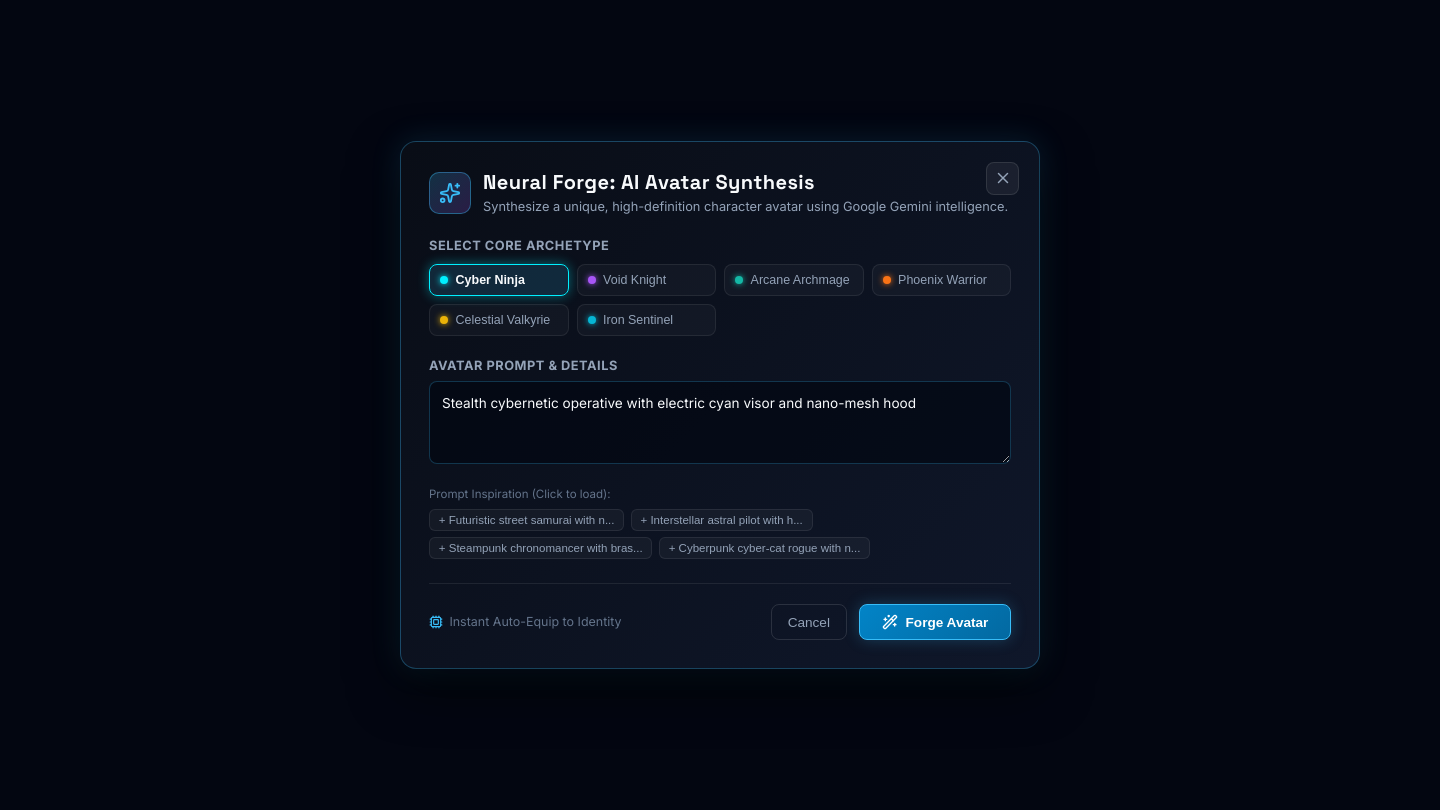
Test: Avatar System & Gemini Generation › submits avatar generation to backend API and updates equipped avatar on success
The image size is (1440, 810).
Step 1. Click the button "Forge Avatar" → coordinates (935, 622), box x1=859 y1=604 x2=1011 y2=640
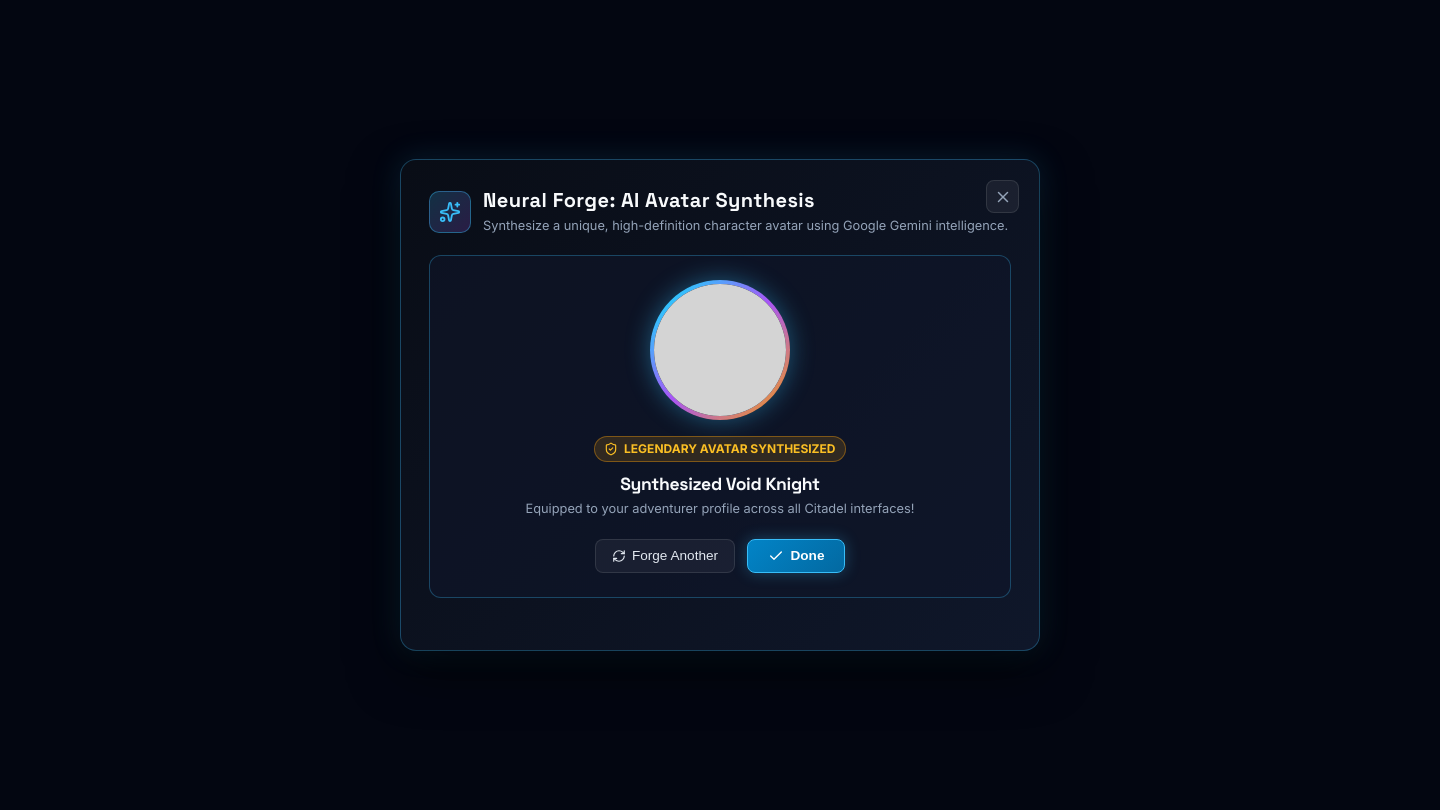
Expected: the text "LEGENDARY AVATAR SYNTHESIZED" is shown, x1=594 y1=436 x2=846 y2=462
